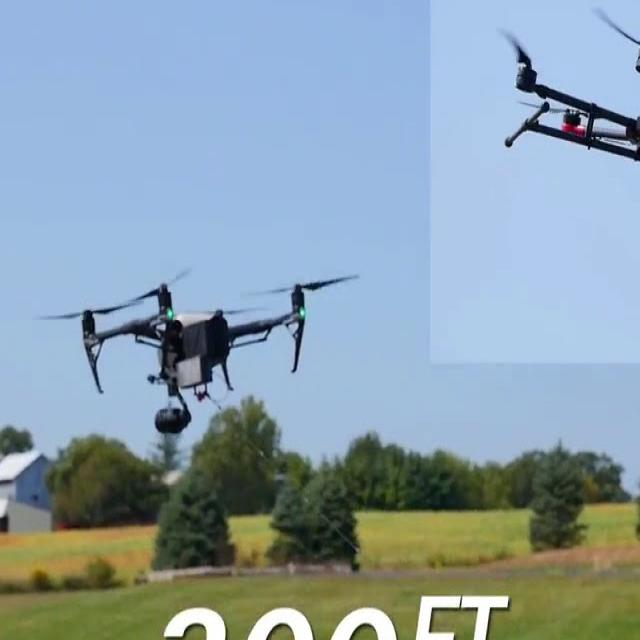drone: (57, 269, 358, 405), (481, 0, 640, 232)
